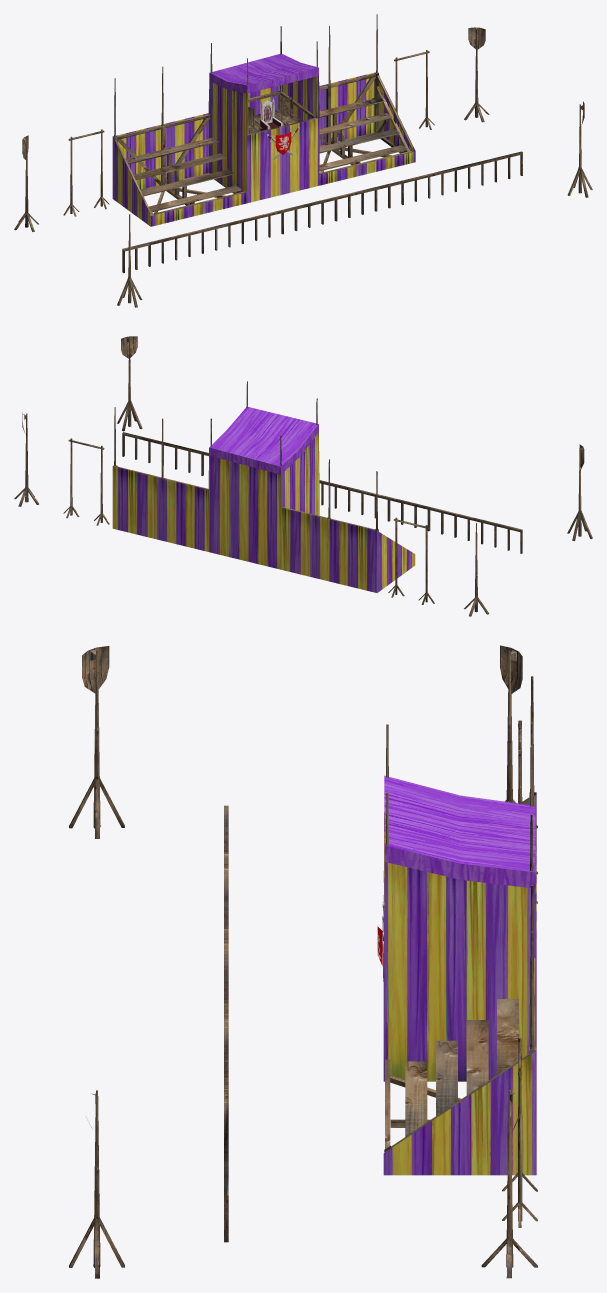
Rendered from building_jousting.glb.
3 renders of one model, top to bottom at view 1: azimuth 30°, elevation 25°; view 2: azimuth 150°, elevation 25°; view 3: azimuth 270°, elevation 25°, orthographic. The views are drawn at different scales.
Visible parts, largest first — view 1: building_jousting; view 2: building_jousting; view 3: building_jousting.
Part boxes in pixels (x1,y1,x2,y2): building_jousting: [14, 14, 592, 307]; building_jousting: [14, 336, 592, 616]; building_jousting: [69, 645, 537, 1278].
Size of the model in its own units: 28.7 by 8.34 by 12.29.
5 materials, 5 textured.
